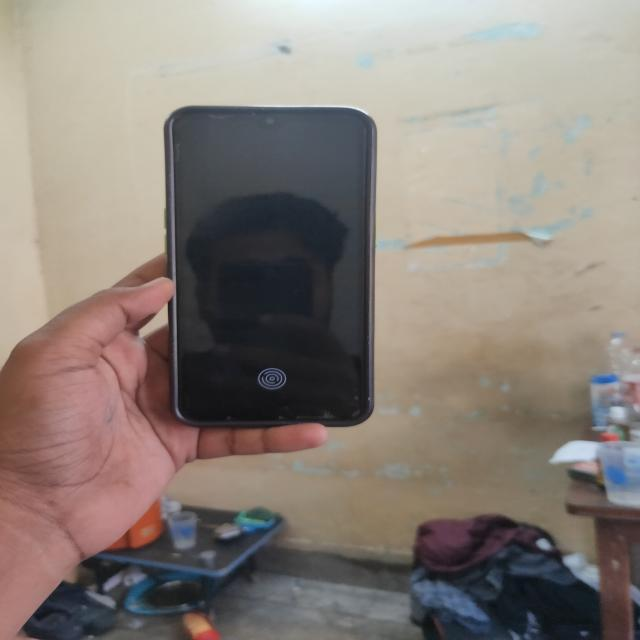Phone: (162, 107, 386, 434)
